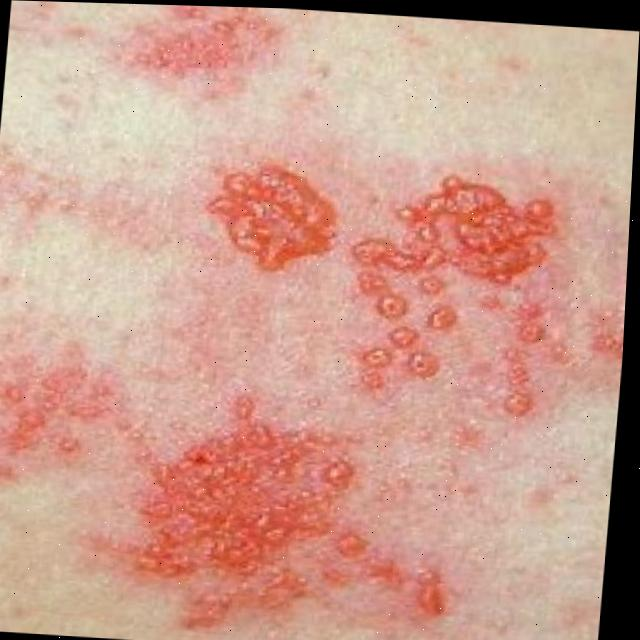Shingles: (182, 156, 632, 422), (118, 395, 469, 640)
